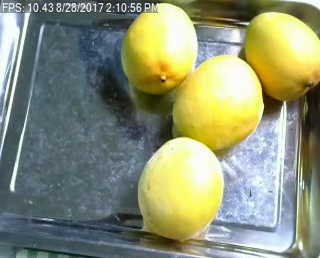Mango: (135, 138, 224, 238), (172, 55, 261, 147), (120, 4, 197, 92), (247, 11, 320, 101)
